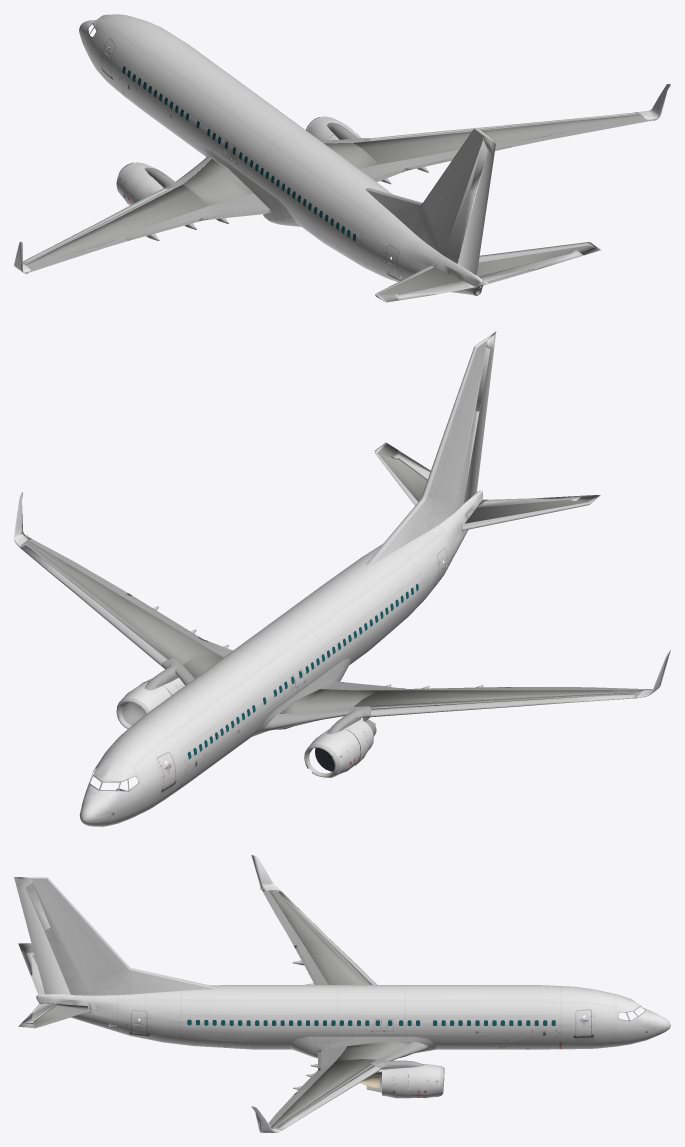
3 views of the same model, one above another, from view 1: azimuth 30°, elevation 25°; view 2: azimuth 150°, elevation 25°; view 3: azimuth 270°, elevation 25° (orthographic). The views are drawn at different scales.
Visible parts, largest first — view 1: fuselage, apuexht, ngww, lhelevator, windowslh, WingletL; view 2: fuselage, apuexht, lhelevator, ngww, windowslh; view 3: fuselage, apuexht, ngww, lhelevator, windowslh, WingletL.
Part boxes in pixels (x1,y1,x2,y2): fuselage: (79,14,495,295); apuexht: (25,114,642,302); ngww: (23,23,647,271); lhelevator: (23,112,634,302); windowslh: (122,66,355,240); WingletL: (14,84,670,273); fuselage: (79,331,496,826); apuexht: (25,443,643,747); lhelevator: (21,346,634,777); ngww: (19,539,647,791); windowslh: (187,583,418,759); fuselage: (14,877,670,1098); apuexht: (18,890,411,1128); ngww: (135,890,645,1130); lhelevator: (18,877,444,1129); windowslh: (187,1019,555,1025); WingletL: (251,855,280,1132).
Size of the model in its own units: 35.69 by 12.11 by 39.42.
Materials: 11 (1 with a texture image).
